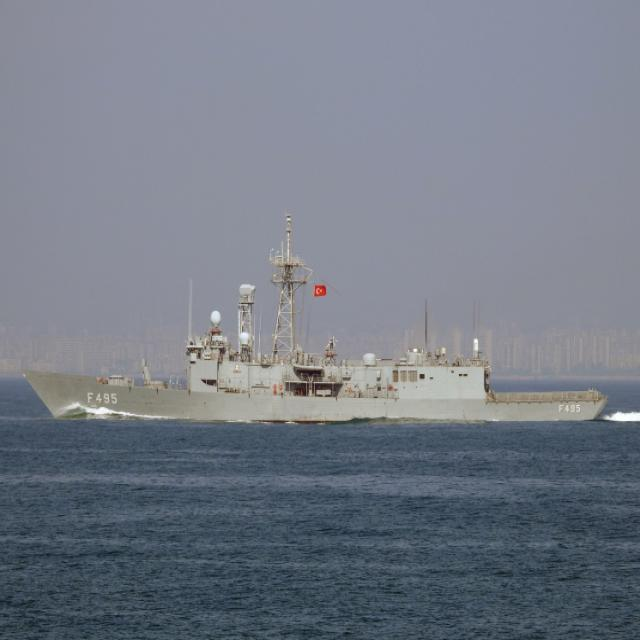Fragata: (21, 215, 608, 429)
